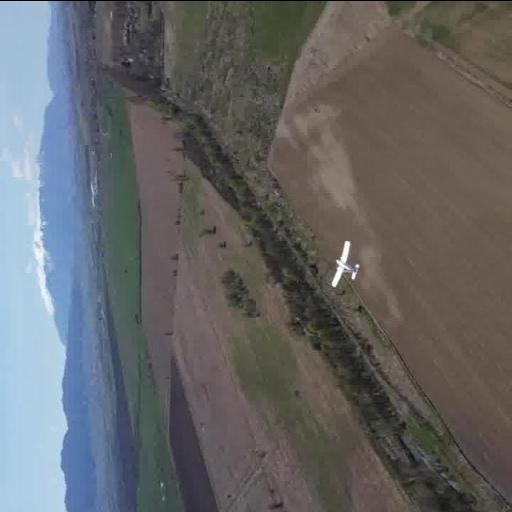uav: (326, 237, 376, 289)
